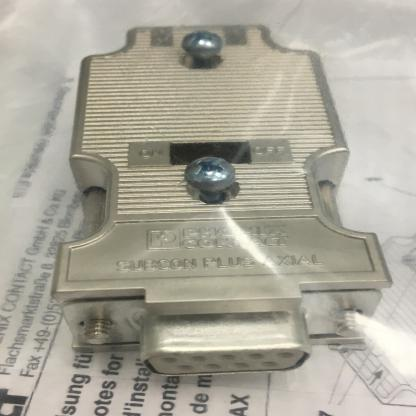SP0000010: (9, 0, 415, 415)
